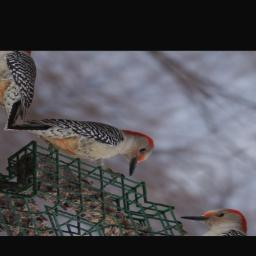Woodpecker: (9, 86, 171, 196)
